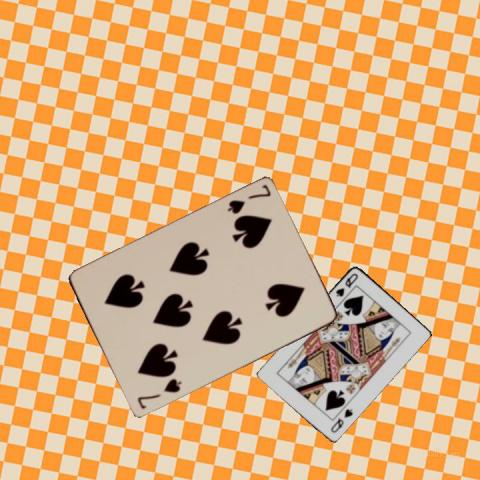7s: (134, 376, 183, 412), (224, 182, 273, 216)
Qs: (327, 405, 354, 434), (333, 270, 359, 298)
